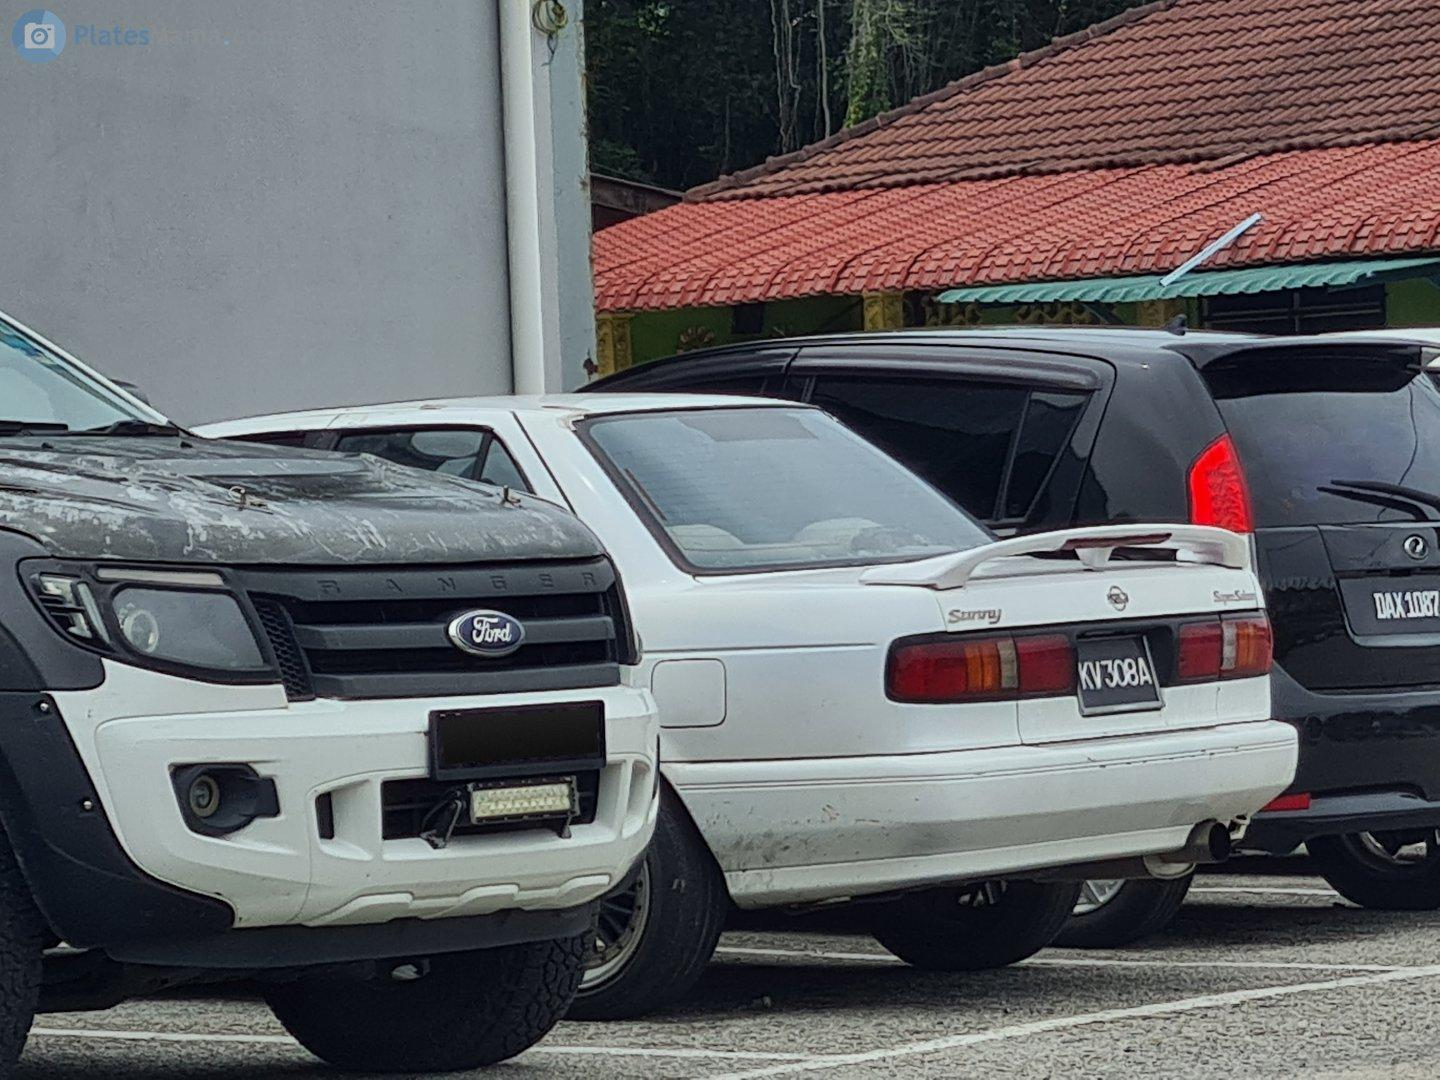License Plate: (1076, 634, 1164, 716), (1343, 572, 1440, 637)
